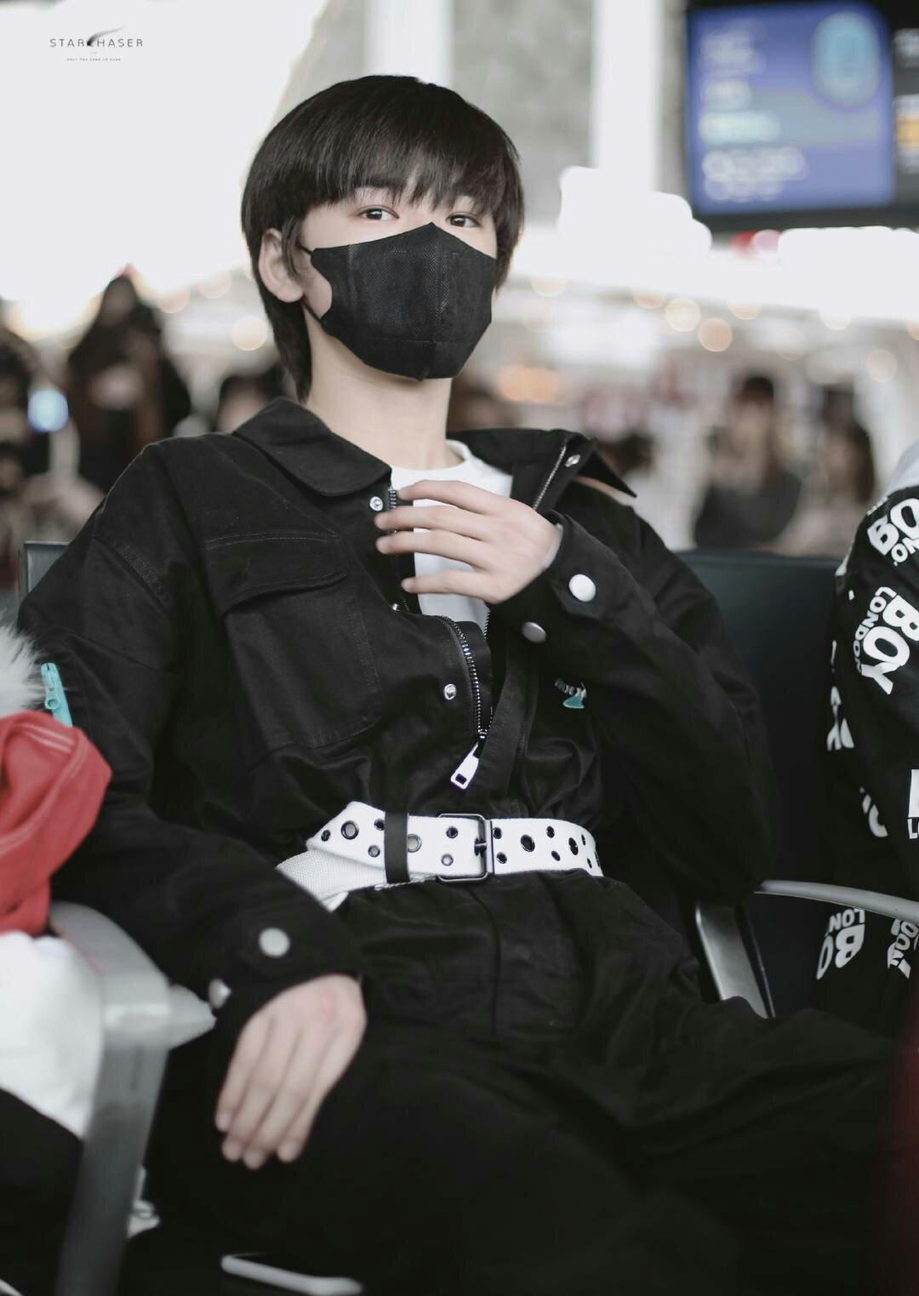OK: (303, 175, 499, 380)
